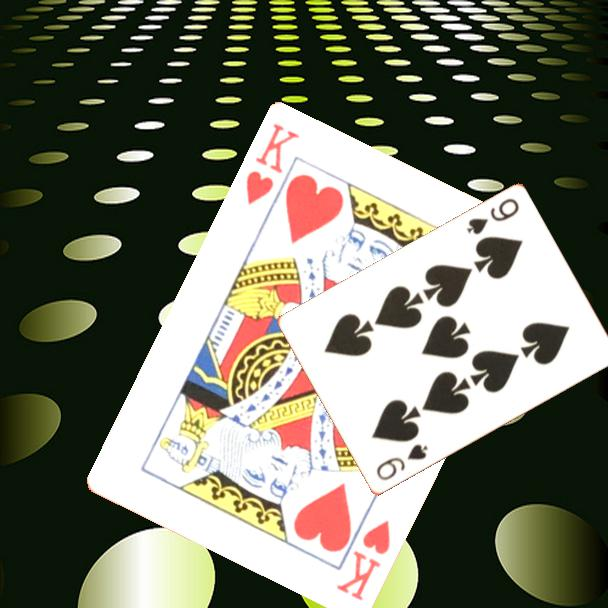h13: (242, 120, 303, 209), (333, 517, 394, 605)
s09: (372, 441, 431, 484), (463, 195, 522, 238)
